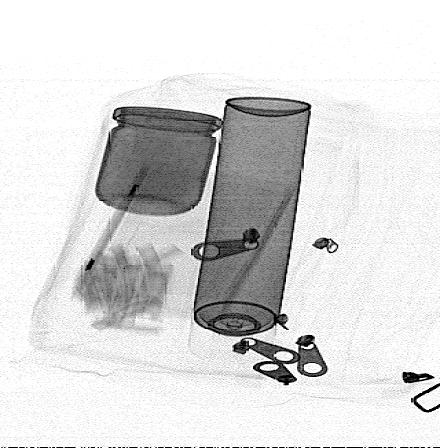Sprayer: (187, 97, 312, 362)
